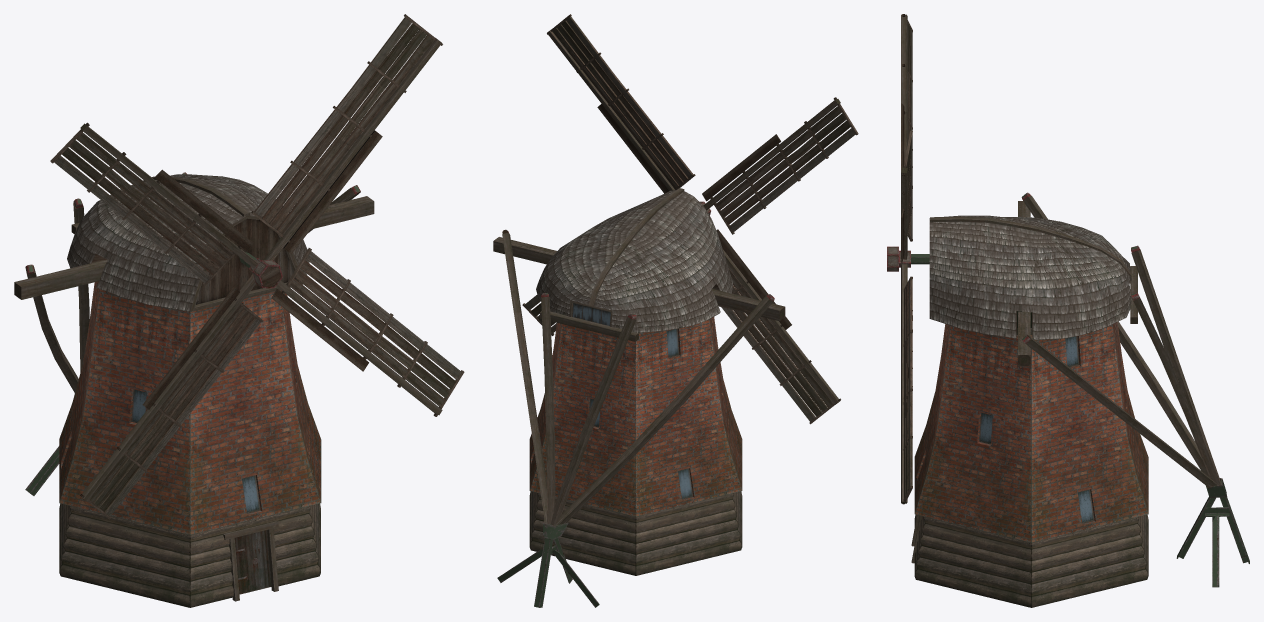
Rendered from farm.glb.
3 views of the same model, side by side, from view 1: azimuth 30°, elevation 25°; view 2: azimuth 150°, elevation 25°; view 3: azimuth 270°, elevation 25° (orthographic). The views are drawn at different scales.
Parts seen in each view (by area): view 1: lod_0; view 2: lod_0; view 3: lod_0.
Part boxes in pixels (<box>): lod_0: <box>14,14,464,607</box>; lod_0: <box>493,14,858,607</box>; lod_0: <box>887,14,1249,607</box>.
Bounding box in the file's own units: 1.96 × 2.53 × 1.67.
1 material, 1 textured.
